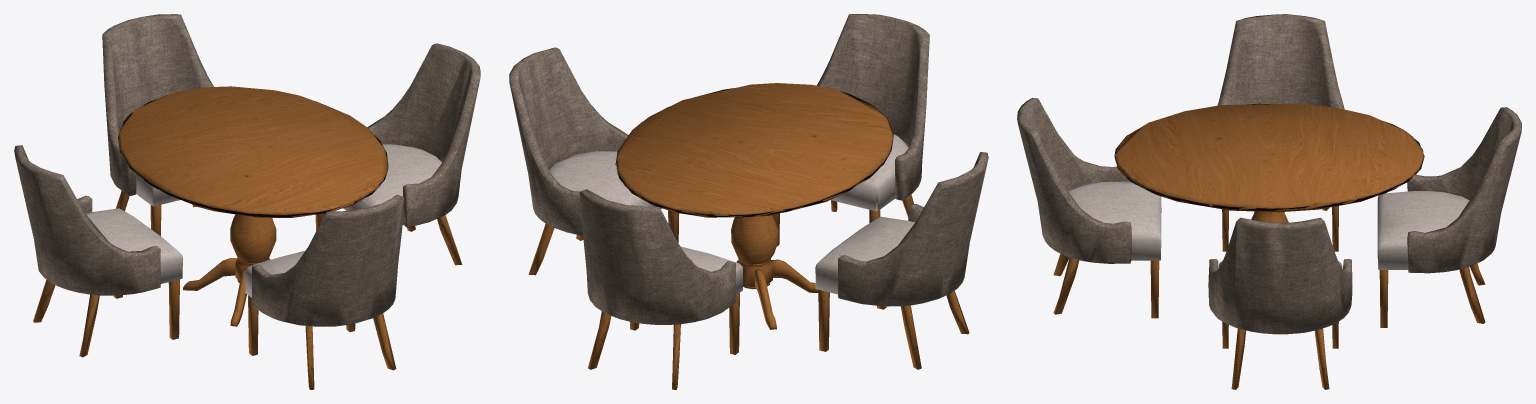
File: table2-var2.glb
3 renders of one model, left to right at view 1: azimuth 30°, elevation 25°; view 2: azimuth 150°, elevation 25°; view 3: azimuth 270°, elevation 25°, orthographic. The views are drawn at different scales.
Parts seen in each view (by area): view 1: SM_Table, SM_Chair3, SM_Chair1, SM_Chair, SM_Chair2; view 2: SM_Table, SM_Chair2, SM_Chair1, SM_Chair, SM_Chair3; view 3: SM_Table, SM_Chair, SM_Chair2, SM_Chair3, SM_Chair1.
Boxes of the visible parts, bbox=[...] form: SM_Table: bbox=[118, 86, 388, 326]; SM_Chair3: bbox=[245, 194, 404, 389]; SM_Chair1: bbox=[14, 145, 182, 357]; SM_Chair: bbox=[315, 43, 480, 265]; SM_Chair2: bbox=[102, 14, 213, 235]; SM_Table: bbox=[615, 83, 893, 329]; SM_Chair2: bbox=[579, 189, 742, 389]; SM_Chair1: bbox=[815, 152, 988, 369]; SM_Chair: bbox=[509, 47, 679, 275]; SM_Chair3: bbox=[773, 14, 929, 246]; SM_Table: bbox=[1114, 103, 1424, 319]; SM_Chair: bbox=[1208, 217, 1352, 389]; SM_Chair2: bbox=[1377, 107, 1521, 327]; SM_Chair3: bbox=[1017, 97, 1161, 318]; SM_Chair1: bbox=[1217, 14, 1344, 251].
Size of the model in its own units: 2.48 by 0.9765 by 2.48.
2 materials, 2 textured.
